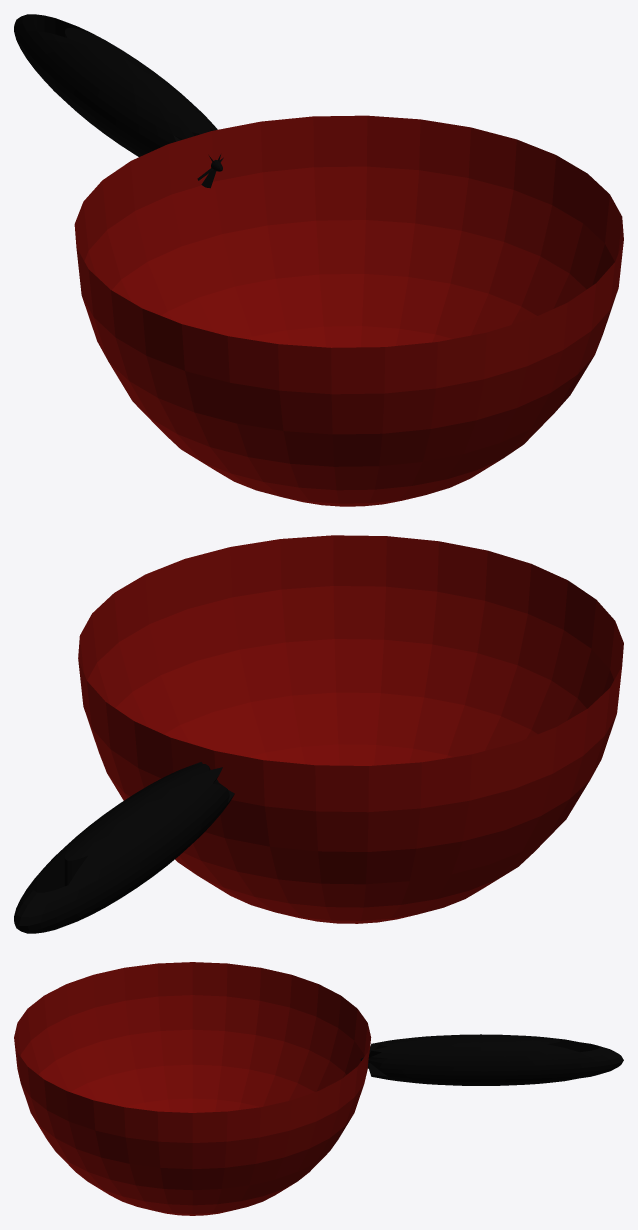
File: FixedBRBetaPan.fbx
3 renders of one model, top to bottom at view 1: azimuth 30°, elevation 25°; view 2: azimuth 150°, elevation 25°; view 3: azimuth 270°, elevation 25°, orthographic. The views are drawn at different scales.
Parts seen in each view (by area): view 1: Sphere; view 2: Sphere; view 3: Sphere.
Part boxes in pixels (bbox=[...]): Sphere: bbox=[14, 14, 623, 506]; Sphere: bbox=[14, 535, 623, 933]; Sphere: bbox=[14, 962, 623, 1215].
Bounding box in the file's own units: 1383 × 697 × 2361.
